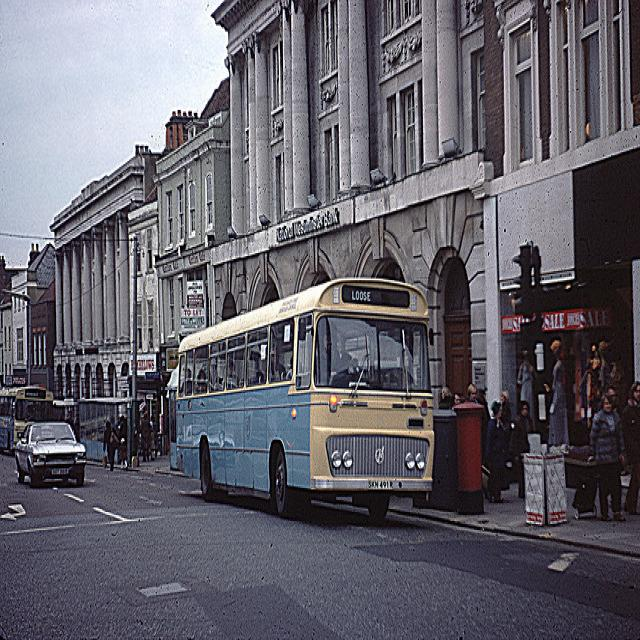Vehicle: (168, 276, 435, 526), (15, 422, 86, 488), (0, 386, 54, 450)
